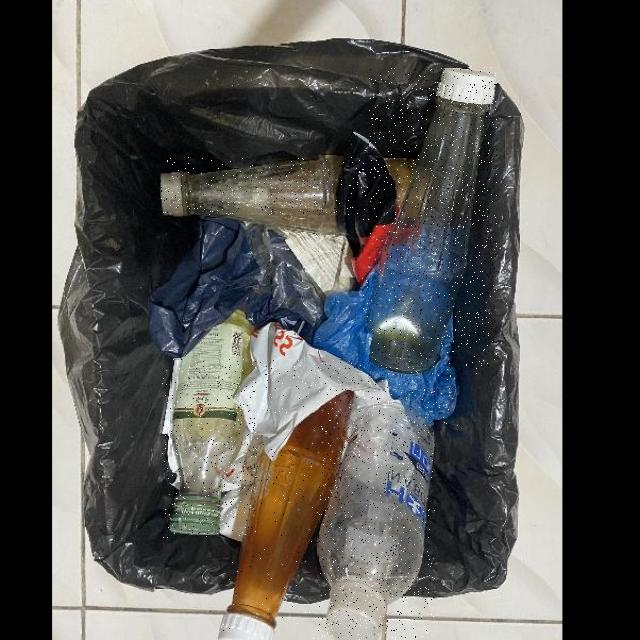glass: (369, 67, 497, 374), (219, 389, 356, 640), (160, 157, 415, 234), (171, 310, 257, 534)
plastic: (162, 307, 387, 540), (148, 215, 362, 359), (318, 400, 435, 640), (314, 261, 458, 426)
